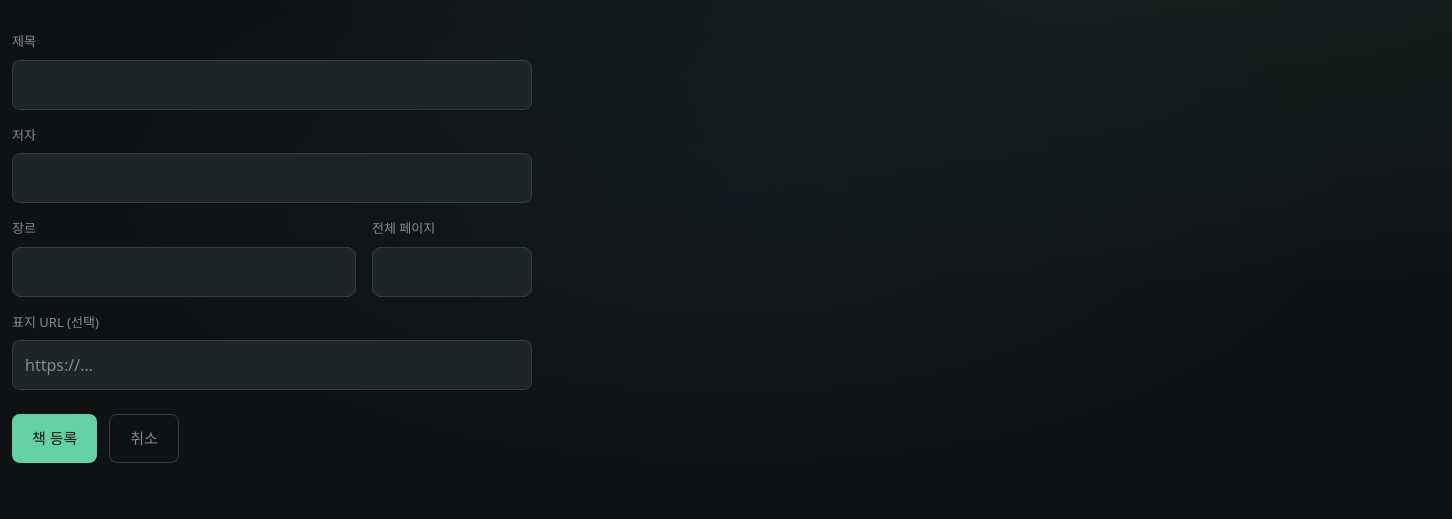
Test: BookForm › shows validation error and does not submit when required fields missing
The width and height of the screenshot is (1452, 519).
Type "아몬드" into the field labelled "제목" at (272, 84), box top-left (12, 60), bottom-right (532, 110)
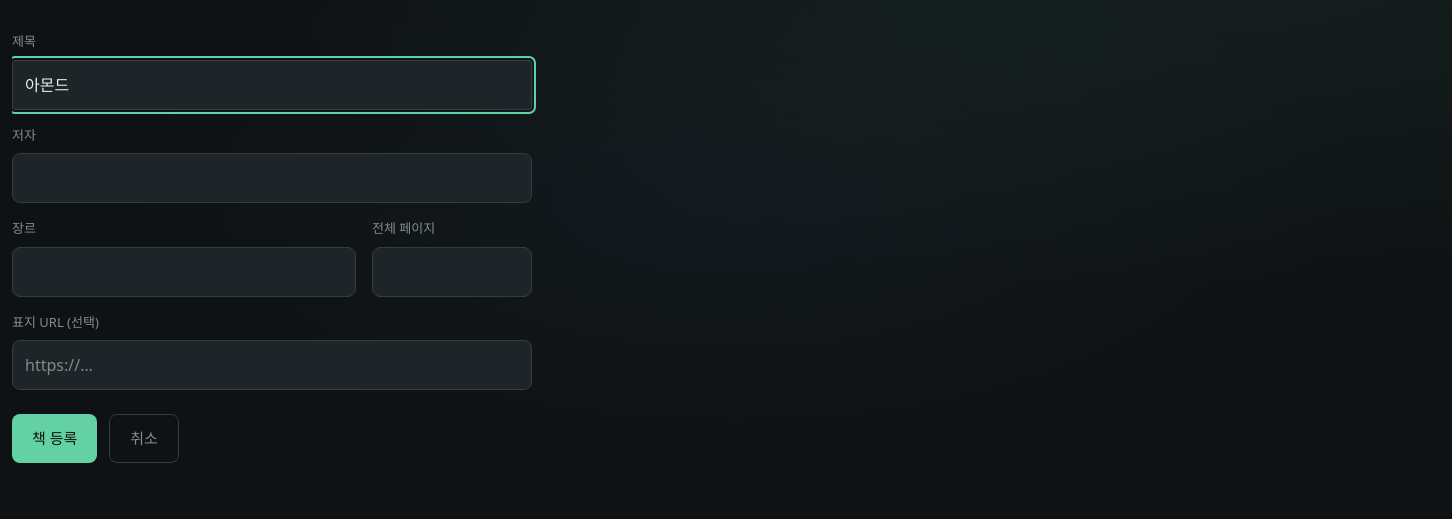
Click the button "책 등록" at (55, 438), box top-left (12, 414), bottom-right (97, 462)
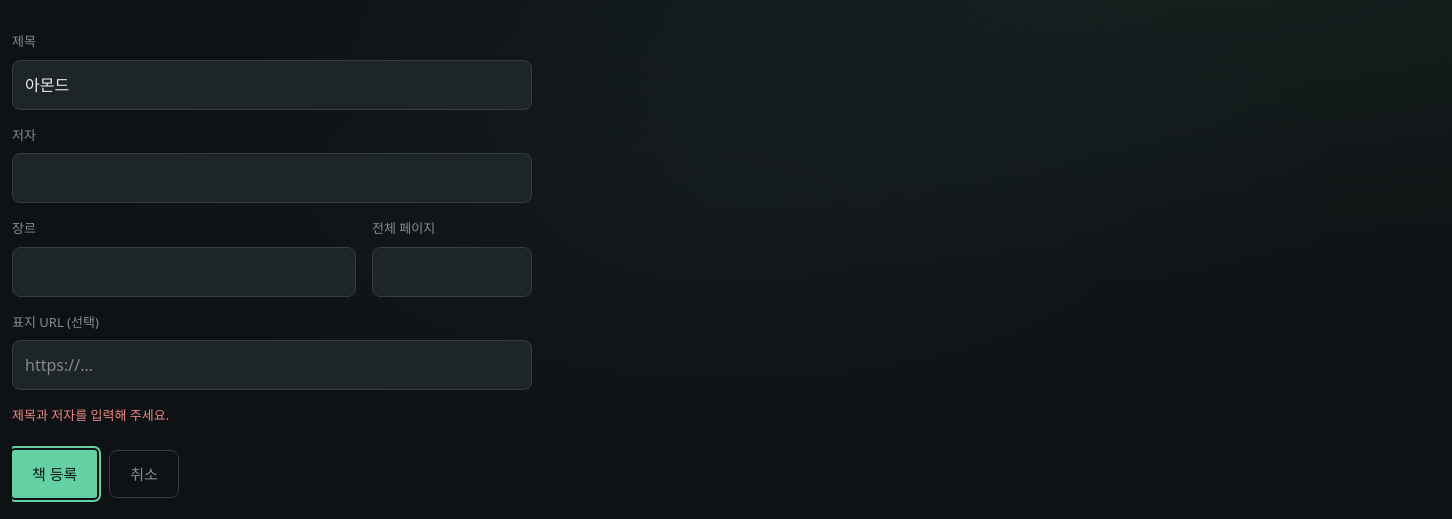
Check: the message "제목과 저자를 입력해 주세요." is shown, box top-left (12, 406), bottom-right (169, 424)
